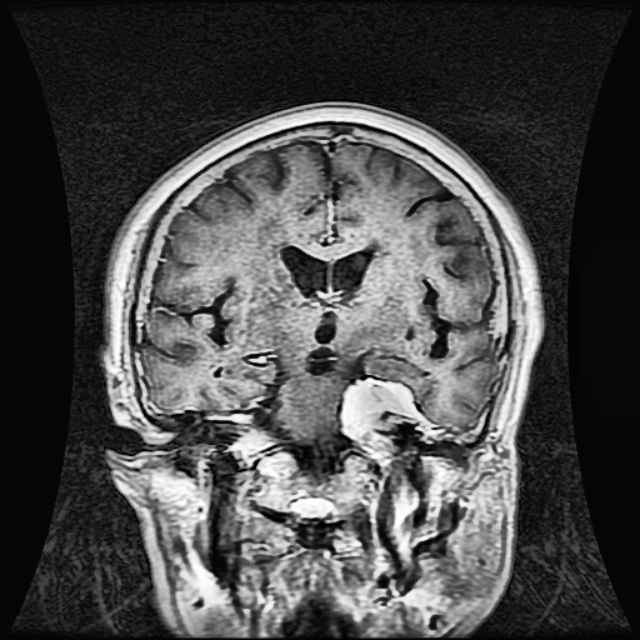Glioma: (339, 375, 422, 463)
